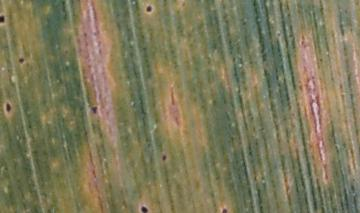tarspot: (89, 106, 99, 115), (17, 56, 26, 64), (5, 102, 12, 112), (160, 154, 168, 162), (145, 5, 153, 12), (140, 206, 148, 213), (1, 16, 5, 24), (222, 208, 227, 213)
